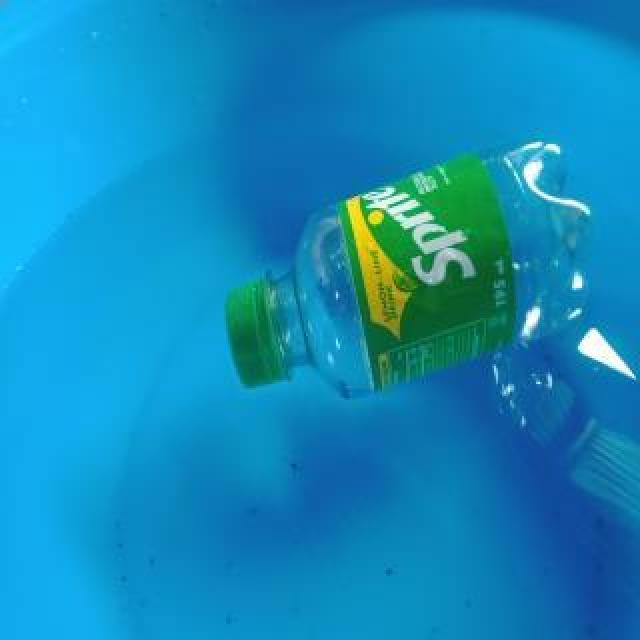bottle: (225, 136, 591, 404)
